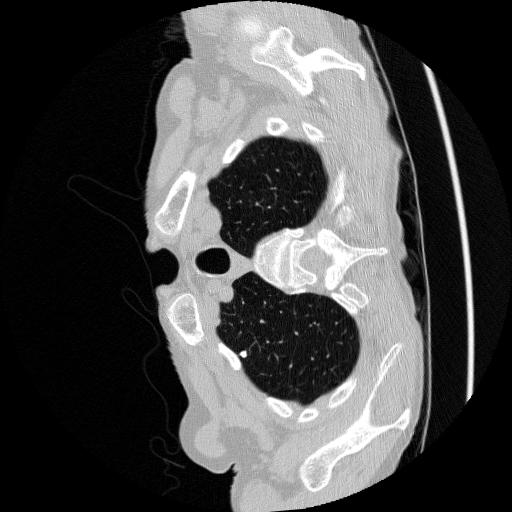nodule: (237, 346, 251, 360)
